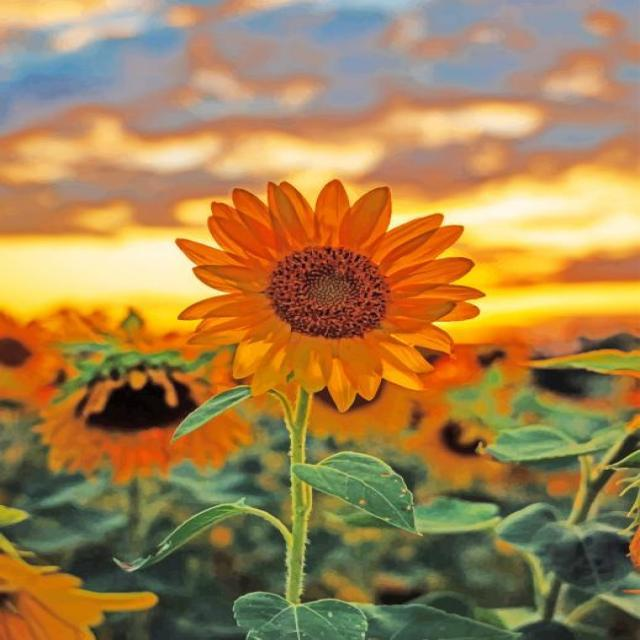sunflower: (173, 177, 484, 412), (32, 368, 254, 484), (0, 554, 158, 640), (262, 360, 418, 444), (400, 408, 516, 490), (0, 309, 64, 411), (401, 344, 478, 392), (474, 340, 532, 385), (399, 392, 447, 428)
